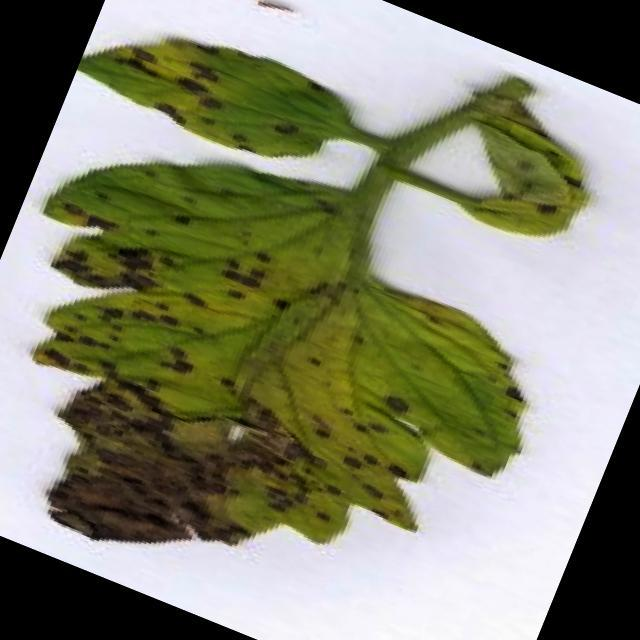Tomato Septoria spot leaf: (0, 87, 593, 640), (69, 0, 370, 192), (419, 73, 622, 263)
